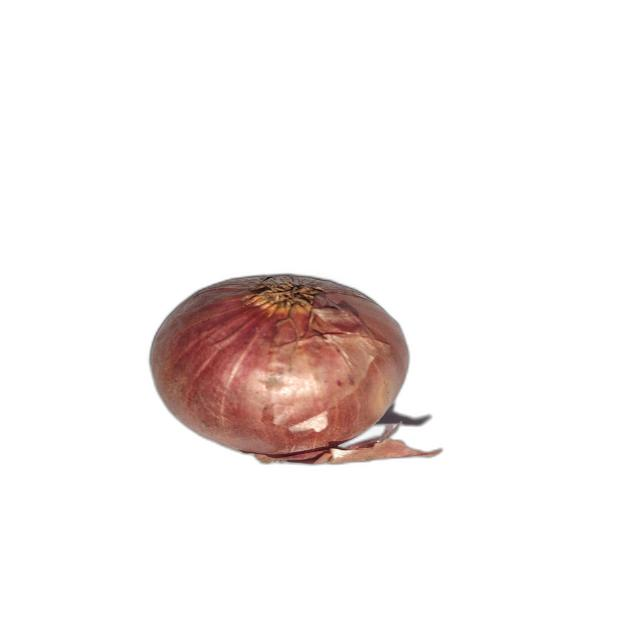onion: (148, 274, 443, 466)
